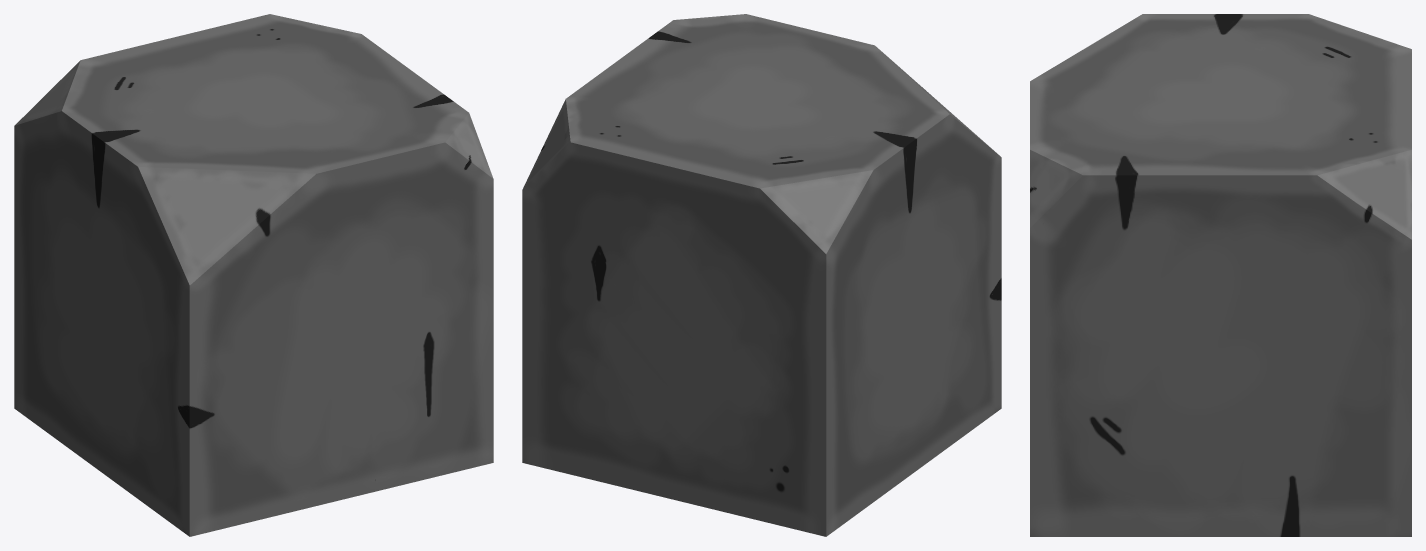
The model's file is piedra001.fbx.
3 renders of one model, left to right at view 1: azimuth 30°, elevation 25°; view 2: azimuth 150°, elevation 25°; view 3: azimuth 270°, elevation 25°, orthographic. The views are drawn at different scales.
Parts seen in each view (by area): view 1: piedra001; view 2: piedra001; view 3: piedra001.
Boxes of the visible parts, <box> form: piedra001: <box>14,14,493,536</box>; piedra001: <box>522,14,1001,536</box>; piedra001: <box>1030,14,1411,536</box>.
Bounding box in the file's own units: 200 × 209 × 200.
Materials: 1 (1 with a texture image).
